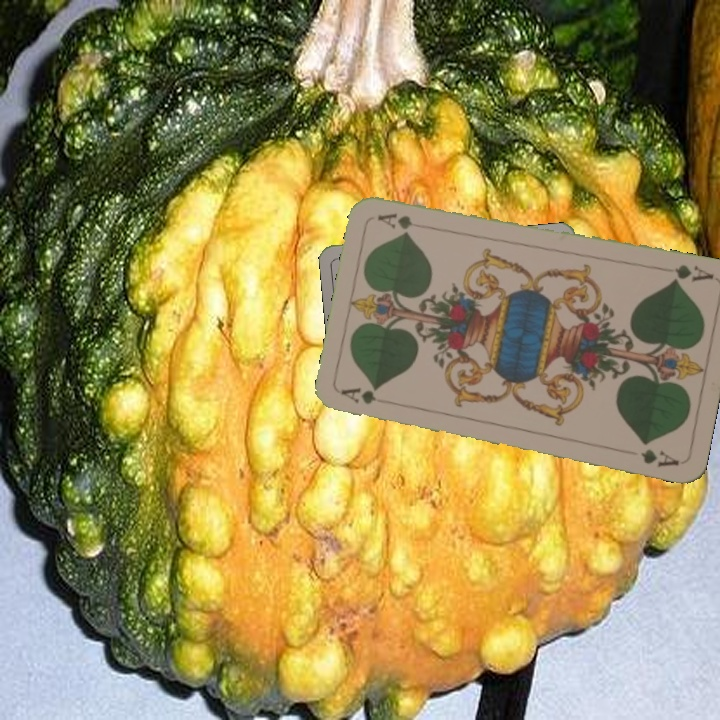GA: (338, 384, 397, 407), (668, 260, 716, 286)
